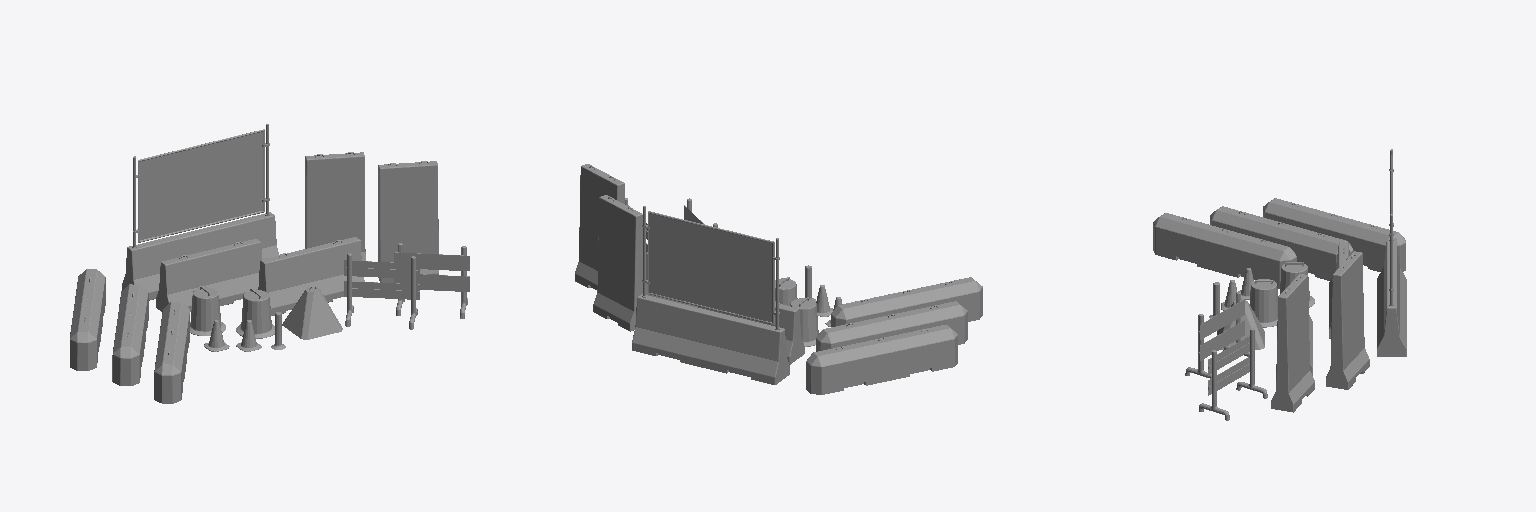
File: barrier_pack.obj
The picture shows the model from 3 angles: view 1: azimuth 30°, elevation 25°; view 2: azimuth 150°, elevation 25°; view 3: azimuth 270°, elevation 25°; orthographic projection.
Parts seen in each view (by area): view 1: fence, fence_barrier, wall_barrier_wall_barrier.001, wall_barrier_painted_wall_barrier, standart_barrier_painted_standart_barrier_standart_barrier.001, standart_barrier_standart_barrier_standart_barrier.000, short_barrier_signed_short_barrier.001, short_barrier, short_barrier_painted.001_short_barrier.002, warning_sign_warnin_sign, warning_sing_back_warnin_sign.001, pyramid_barrier (+2 smaller); view 2: fence_barrier, fence, short_barrier, wall_barrier_painted_wall_barrier, short_barrier_painted.001_short_barrier.002, short_barrier_signed_short_barrier.001, wall_barrier_wall_barrier.001, standart_barrier_painted_standart_barrier_standart_barrier.001, big_cone_orange_big_cone.001; view 3: short_barrier_painted.001_short_barrier.002, wall_barrier_painted_wall_barrier, wall_barrier_wall_barrier.001, short_barrier, short_barrier_signed_short_barrier.001, fence_barrier, warning_sing_back_warnin_sign.001, warning_sign_warnin_sign, big_cone, pyramid_barrier, big_cone_orange_big_cone.001.
Boxes of the visible parts, x1,y1,x2,y2 form: fence: [140, 132, 262, 239]; fence_barrier: [122, 124, 278, 300]; wall_barrier_wall_barrier.001: [378, 161, 438, 282]; wall_barrier_painted_wall_barrier: [305, 152, 365, 260]; standart_barrier_painted_standart_barrier_standart_barrier.001: [156, 239, 261, 311]; standart_barrier_standart_barrier_standart_barrier.000: [258, 237, 364, 315]; short_barrier_signed_short_barrier.001: [112, 284, 148, 385]; short_barrier: [70, 269, 105, 370]; short_barrier_painted.001_short_barrier.002: [154, 302, 189, 403]; warning_sign_warnin_sign: [344, 253, 419, 329]; warning_sing_back_warnin_sign.001: [394, 243, 469, 318]; pyramid_barrier: [282, 286, 342, 339]; fence_barrier: [632, 206, 789, 384]; fence: [649, 213, 771, 321]; short_barrier: [806, 324, 957, 394]; wall_barrier_painted_wall_barrier: [593, 195, 642, 331]; short_barrier_painted.001_short_barrier.002: [831, 277, 982, 326]; short_barrier_signed_short_barrier.001: [816, 301, 967, 351]; wall_barrier_wall_barrier.001: [575, 164, 624, 289]; standart_barrier_painted_standart_barrier_standart_barrier.001: [698, 301, 804, 364]; big_cone_orange_big_cone.001: [790, 297, 818, 346]; short_barrier_painted.001_short_barrier.002: [1153, 213, 1296, 288]; wall_barrier_painted_wall_barrier: [1326, 251, 1369, 389]; wall_barrier_wall_barrier.001: [1271, 274, 1314, 412]; short_barrier: [1263, 198, 1405, 271]; short_barrier_signed_short_barrier.001: [1210, 206, 1353, 280]; fence_barrier: [1377, 149, 1406, 356]; warning_sing_back_warnin_sign.001: [1199, 328, 1267, 420]; warning_sign_warnin_sign: [1185, 292, 1249, 378]; big_cone: [1250, 279, 1277, 327]; pyramid_barrier: [1217, 298, 1264, 349]; big_cone_orange_big_cone.001: [1280, 261, 1314, 307].
Size of the model in its own units: 34.21 by 12.97 by 20.16.